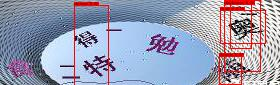chinese: (215, 57, 249, 83), (230, 14, 260, 42), (145, 35, 177, 57), (83, 56, 120, 75), (71, 26, 98, 49), (8, 60, 34, 78)
